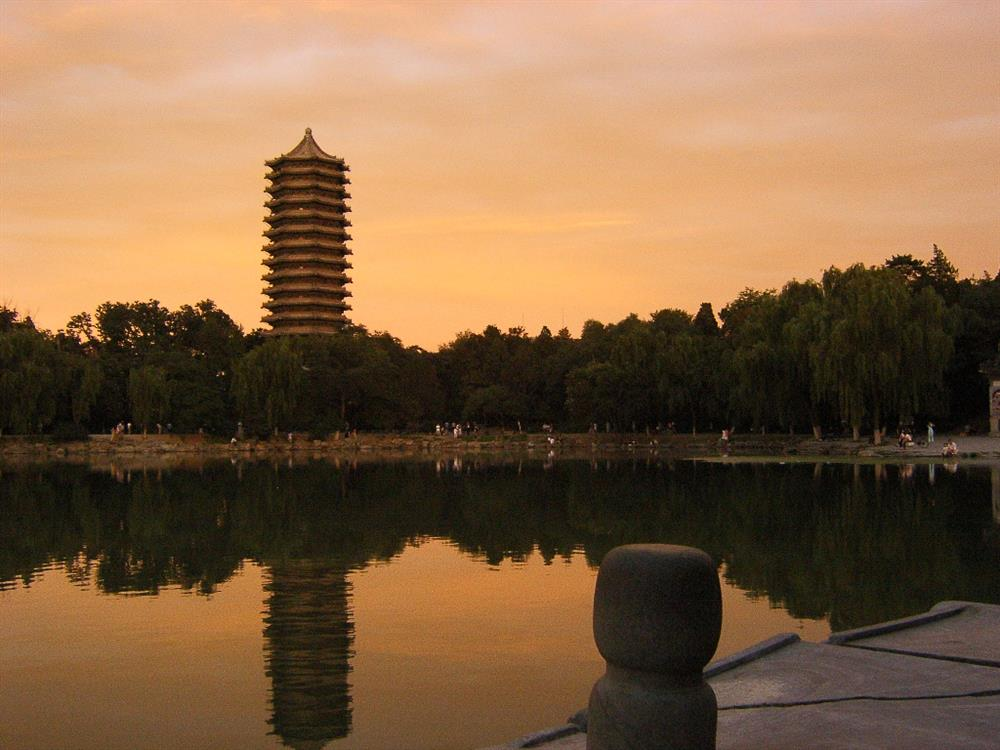Peking_Univ_Boya_Tower: (250, 121, 356, 345)
